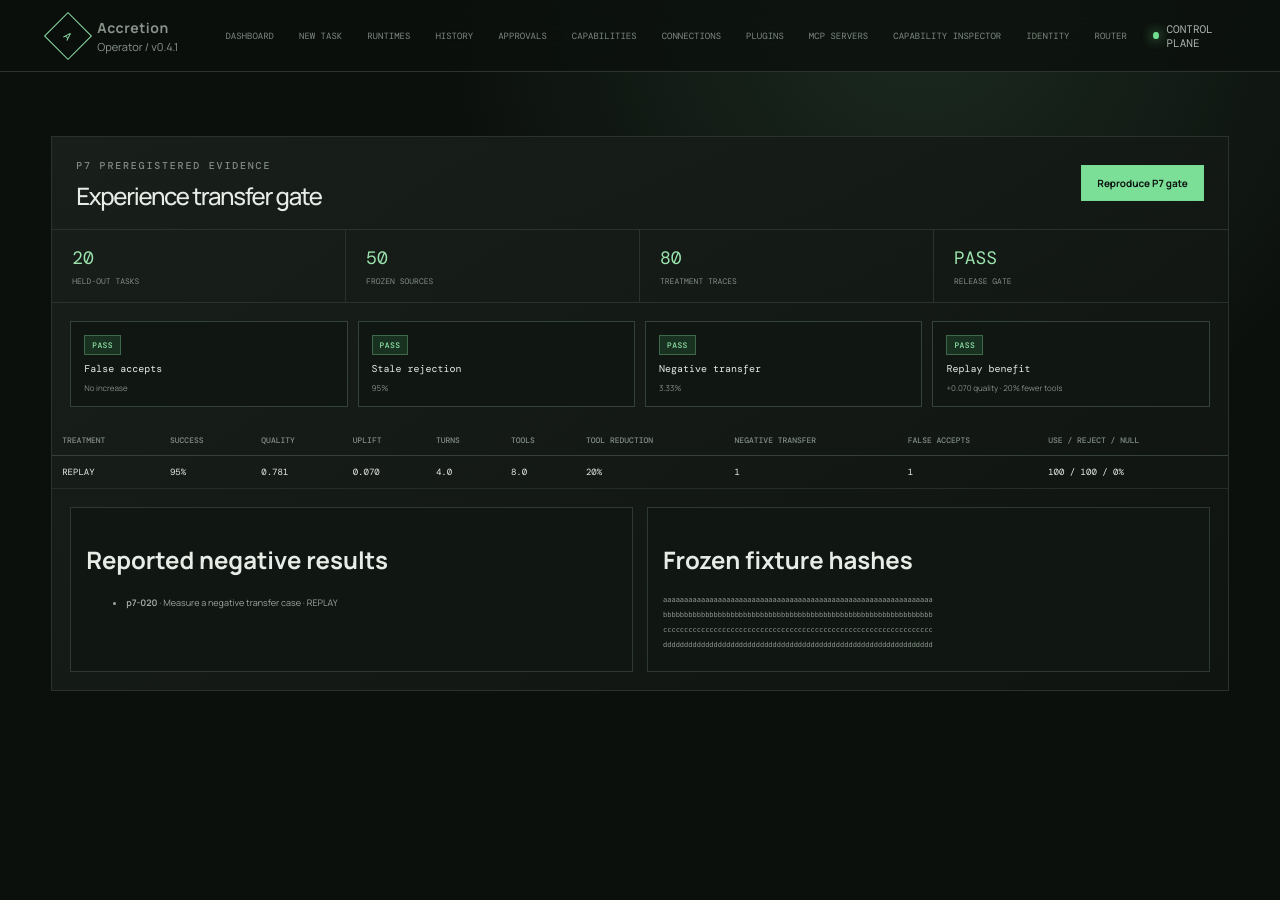
it: renders and reproduces the frozen P7 experience transfer gate
The image size is (1280, 900).
Expected: the heading "Experience transfer gate" is shown, [76, 184, 322, 207]
Expected: the text "95%" is shown, [372, 382, 388, 393]
Click the button "Reproduce P7 gate" at (1143, 183), box [1081, 165, 1204, 201]
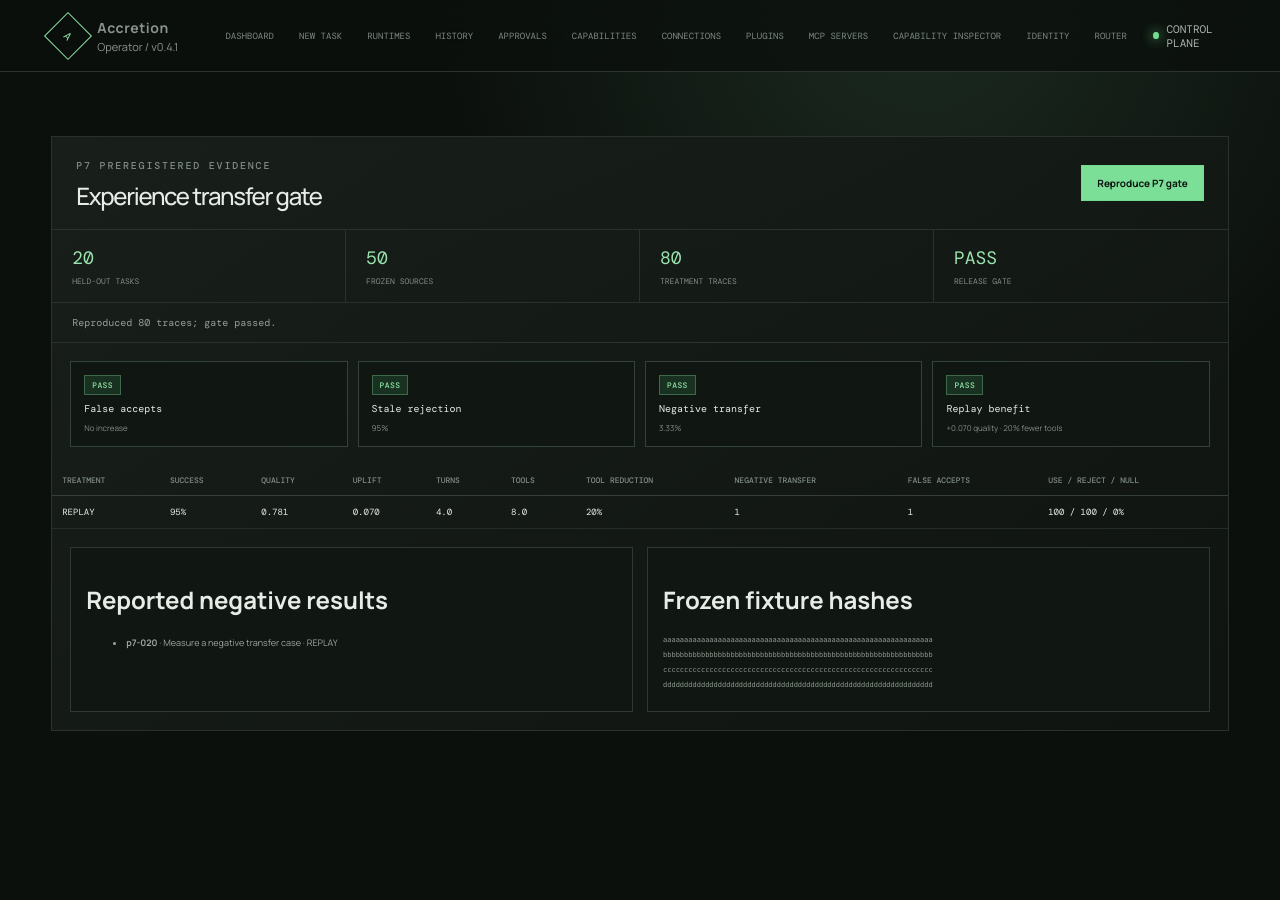
Expected: the text "Reproduced 80 traces; gate passed." is shown, [52, 303, 1228, 343]
